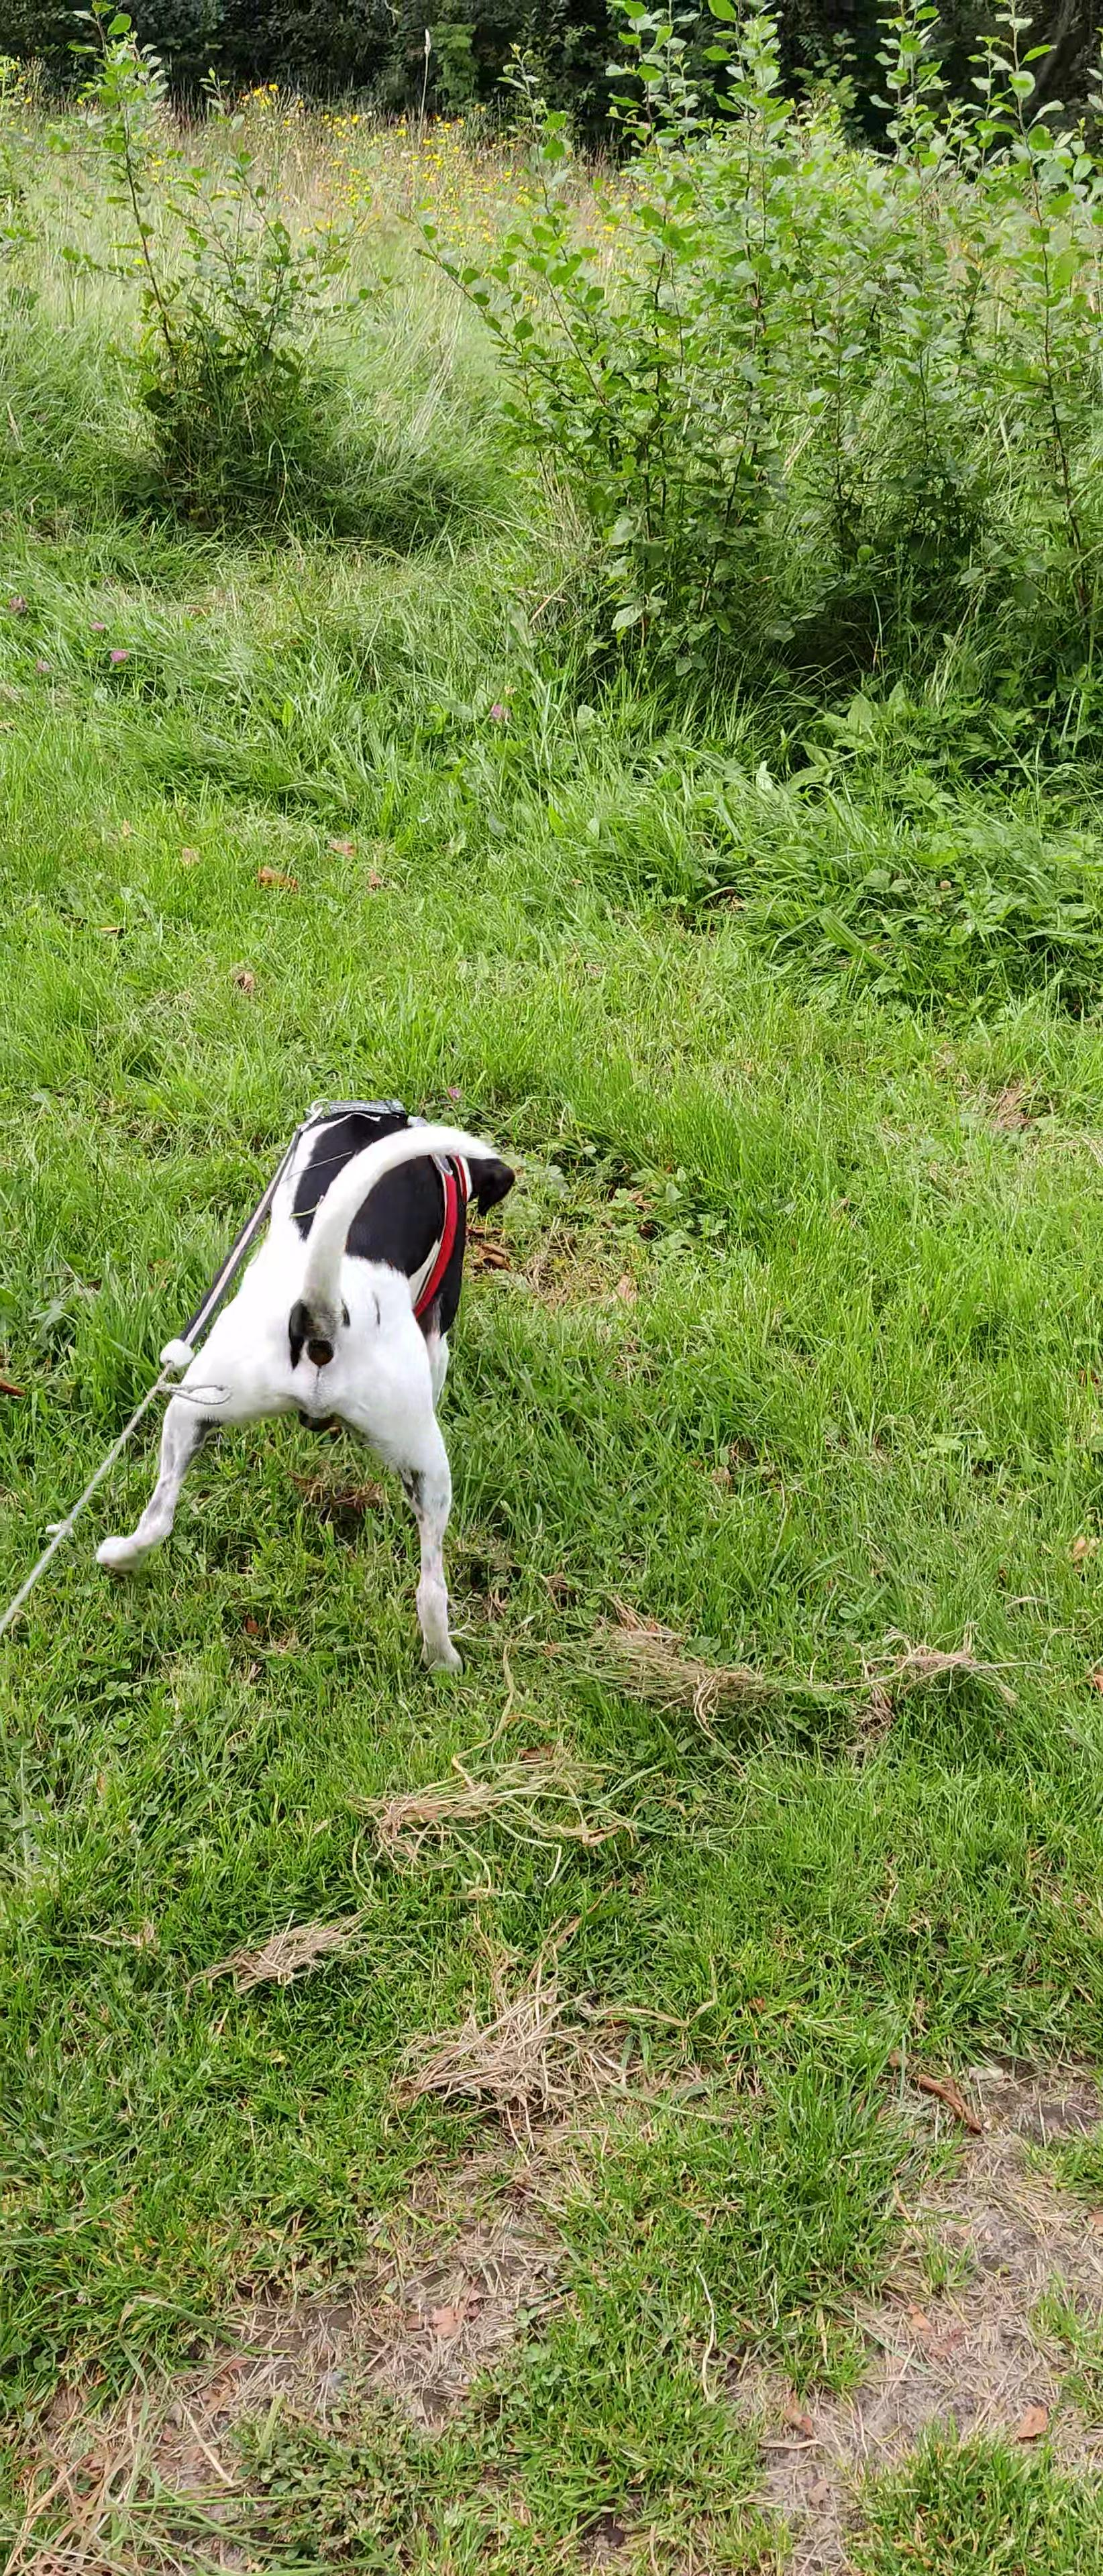Dog: (77, 1074, 552, 1702)
